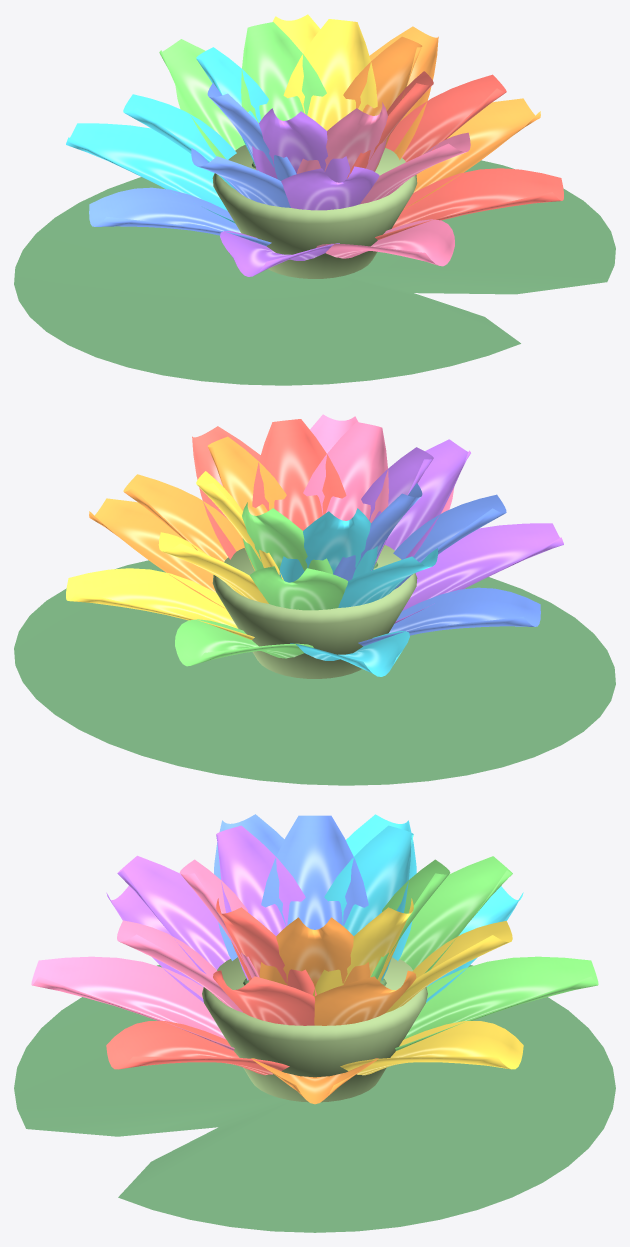
File: Prop_03_幽谷七色彩莲.glb
The picture shows the model from 3 angles, top to bottom: view 1: azimuth 30°, elevation 25°; view 2: azimuth 150°, elevation 25°; view 3: azimuth 270°, elevation 25°; orthographic projection. The views are drawn at different scales.
Visible parts, largest first — view 1: LilyPad, SeedPod, Petal_R0_5, Petal_R0_1, Petal_R2_3, Petal_R0_6, Petal_R2_4, Petal_R1_1, Petal_R0_2, Petal_R2_7, Petal_R1_4, Petal_R0_0 (+12 smaller); view 2: LilyPad, SeedPod, Petal_R0_7, Petal_R0_3, Petal_R2_1, Petal_R0_6, Petal_R2_0, Petal_R1_2, Petal_R0_2, Petal_R2_5, Petal_R1_7, Petal_R0_4 (+12 smaller); view 3: LilyPad, SeedPod, Petal_R0_4, Petal_R0_0, Petal_R2_6, Petal_R1_4, Petal_R1_7, Petal_R0_1, Petal_R0_3, Petal_R2_7, Petal_R2_5, Petal_R2_2 (+13 smaller).
Boxes of the visible parts, x1,y1,x2,y2 form: LilyPad: (14,160,615,385); SeedPod: (212,145,417,278); Petal_R0_5: (66,123,235,223); Petal_R0_1: (375,168,563,239); Petal_R2_3: (283,19,377,130); Petal_R0_6: (89,187,271,246); Petal_R2_4: (241,22,326,122); Petal_R1_1: (385,74,506,161); Petal_R0_2: (403,98,540,209); Petal_R2_7: (252,108,350,182); Petal_R1_4: (159,39,245,158); Petal_R0_0: (316,219,454,266); LilyPad: (14,560,615,785); SeedPod: (212,545,417,678); Petal_R0_7: (394,523,563,623); Petal_R0_3: (66,568,254,639); Petal_R2_1: (252,419,346,530); Petal_R0_6: (358,587,540,646); Petal_R2_0: (303,422,388,522); Petal_R1_2: (123,474,244,562); Petal_R0_2: (89,498,225,608); Petal_R2_5: (279,508,377,582); Petal_R1_7: (384,439,470,558); Petal_R0_4: (175,619,313,666); LilyPad: (14,965,615,1232); SeedPod: (202,957,427,1102); Petal_R0_4: (395,956,598,1050); Petal_R0_0: (31,956,234,1050); Petal_R2_6: (261,815,368,929); Petal_R1_4: (399,856,512,973); Petal_R1_7: (117,855,230,973); Petal_R0_1: (106,1021,289,1075); Petal_R0_3: (340,1021,523,1075); Petal_R2_7: (216,825,305,980); Petal_R2_5: (324,825,413,980); Petal_R2_2: (259,917,370,987).
Size of the model in its own units: 2.3 by 0.8576 by 2.02.
Materials: 11 (8 with a texture image).
